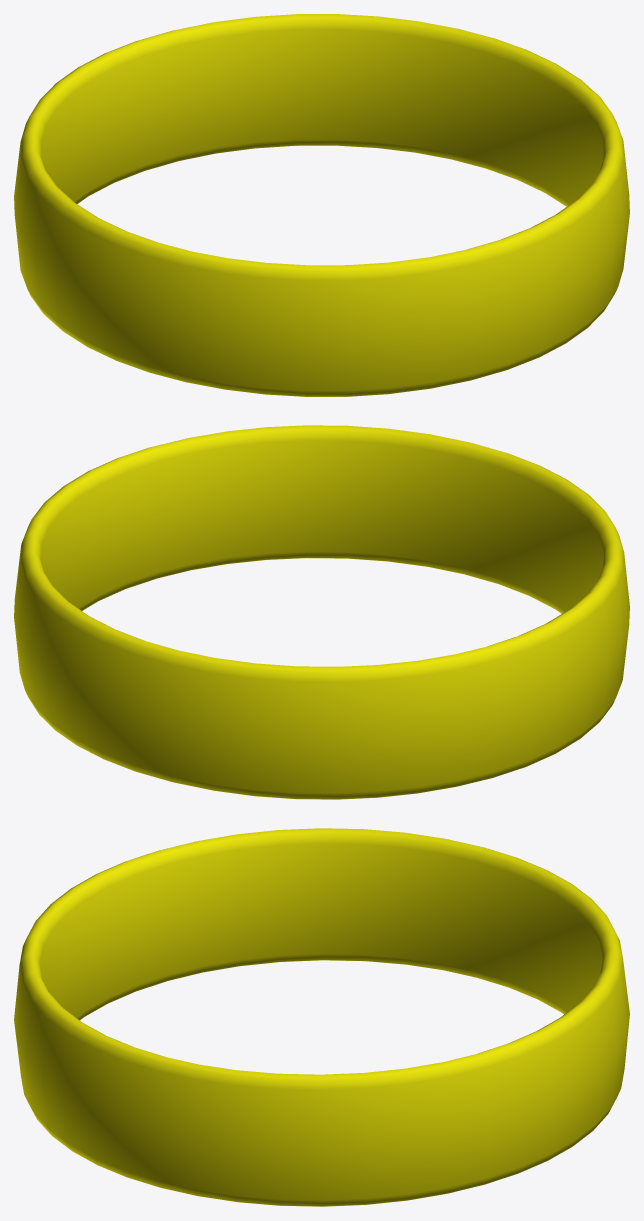
File: Ring_4.fbx
3 views of the same model, one above another, from view 1: azimuth 30°, elevation 25°; view 2: azimuth 150°, elevation 25°; view 3: azimuth 270°, elevation 25° (orthographic).
Parts seen in each view (by area): view 1: Ring; view 2: Ring; view 3: Ring.
Boxes of the visible parts, bbox=[...] form: Ring: bbox=[14, 14, 629, 396]; Ring: bbox=[14, 425, 629, 799]; Ring: bbox=[14, 828, 629, 1206].
Size of the model in its own units: 2.62 by 0.646 by 2.62.
